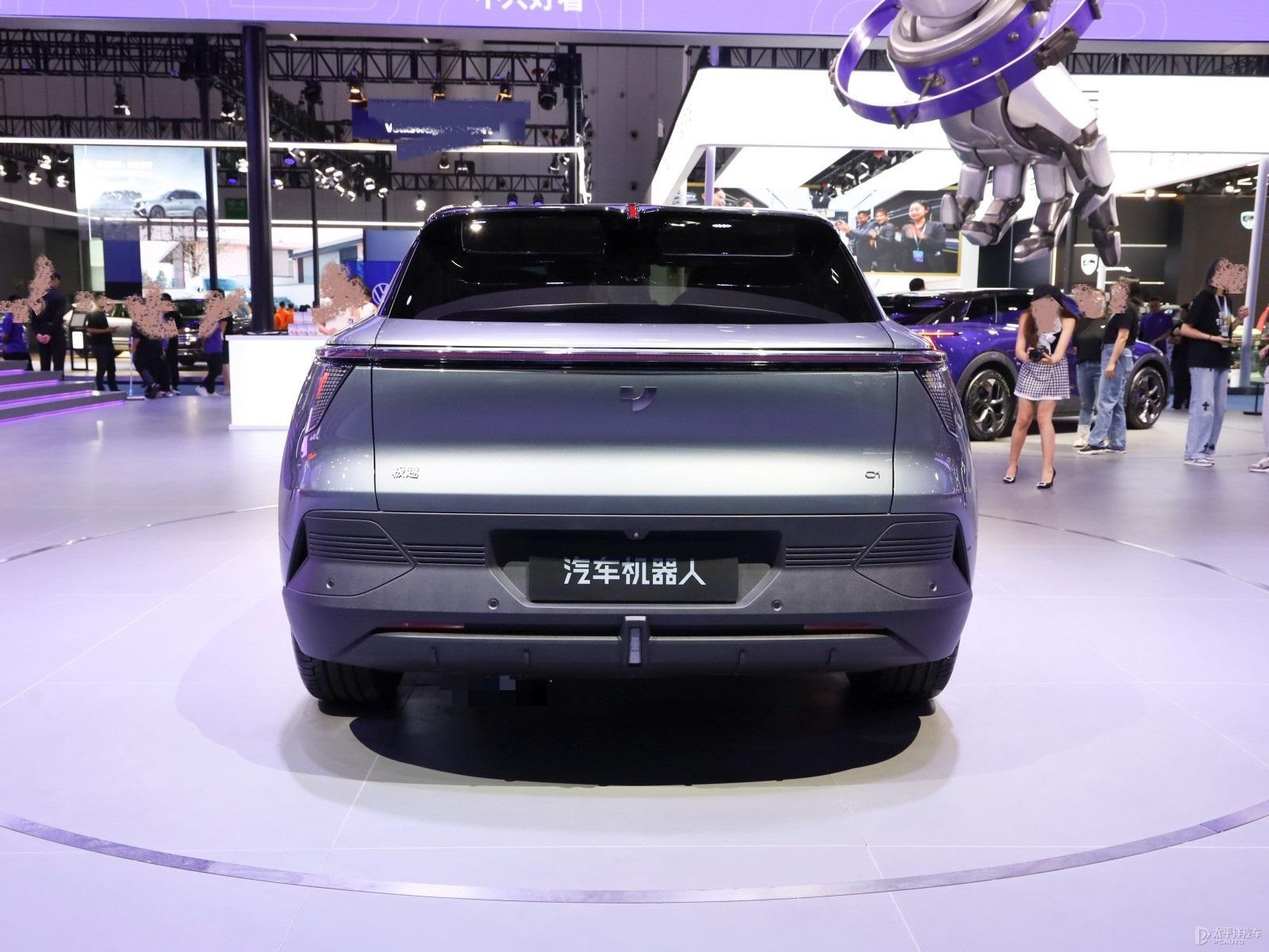JIYUE: (619, 384, 660, 413)
